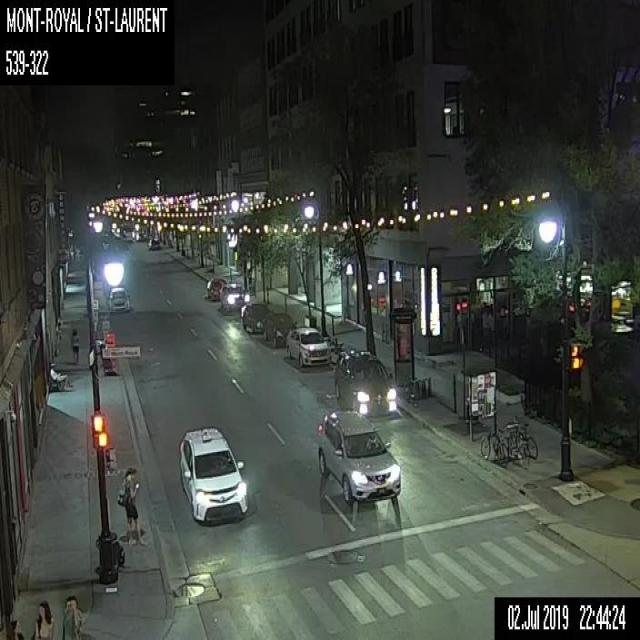construction: (105, 330, 116, 374)
pedestrian: (114, 467, 146, 544), (28, 600, 55, 639), (61, 594, 80, 638), (48, 360, 72, 390), (70, 328, 79, 363), (8, 618, 23, 638)
vehicle: (316, 409, 401, 503), (178, 425, 247, 527), (333, 349, 393, 416), (286, 326, 331, 367), (261, 312, 296, 346), (240, 302, 273, 331), (220, 282, 247, 310), (107, 286, 130, 312), (206, 276, 227, 298), (147, 236, 160, 249), (136, 230, 146, 241), (122, 229, 132, 240)
